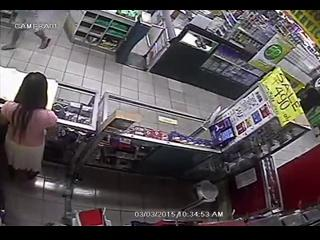Normal: (0, 71, 58, 185)
